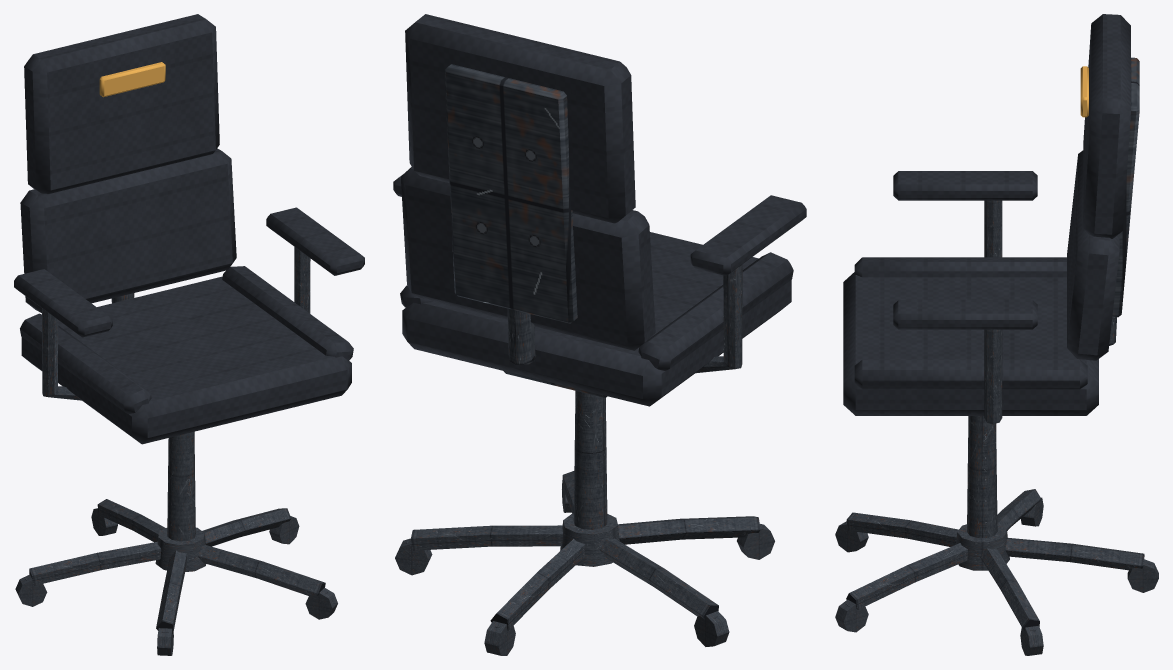
File: office_swivel_chair_free.glb
The picture shows the model from 3 angles, left to right: view 1: azimuth 30°, elevation 25°; view 2: azimuth 150°, elevation 25°; view 3: azimuth 270°, elevation 25°; orthographic projection. The views are drawn at different scales.
Parts seen in each view (by area): view 1: silla_industrial; view 2: silla_industrial; view 3: silla_industrial.
Boxes of the visible parts, left/top/right/bottom form: silla_industrial: left=14, top=14, right=364, bottom=655; silla_industrial: left=393, top=14, right=806, bottom=655; silla_industrial: left=835, top=14, right=1158, bottom=655.
Bounding box in the file's own units: 0.625 × 1.06 × 0.5829.
3 materials, 2 textured.
